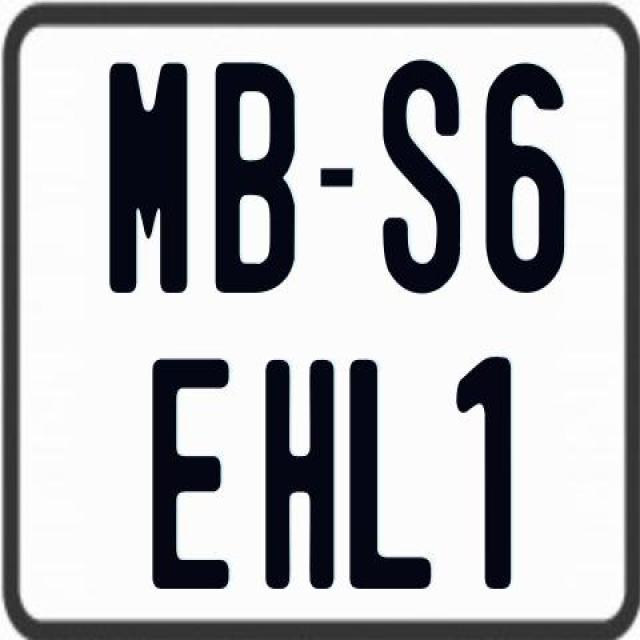1: (452, 353, 512, 592)
6: (482, 61, 562, 300)
B: (212, 63, 292, 294)
E: (152, 353, 234, 584)
H: (264, 358, 338, 589)
L: (346, 356, 436, 590)
M: (109, 59, 188, 290)
S: (381, 54, 459, 293)
